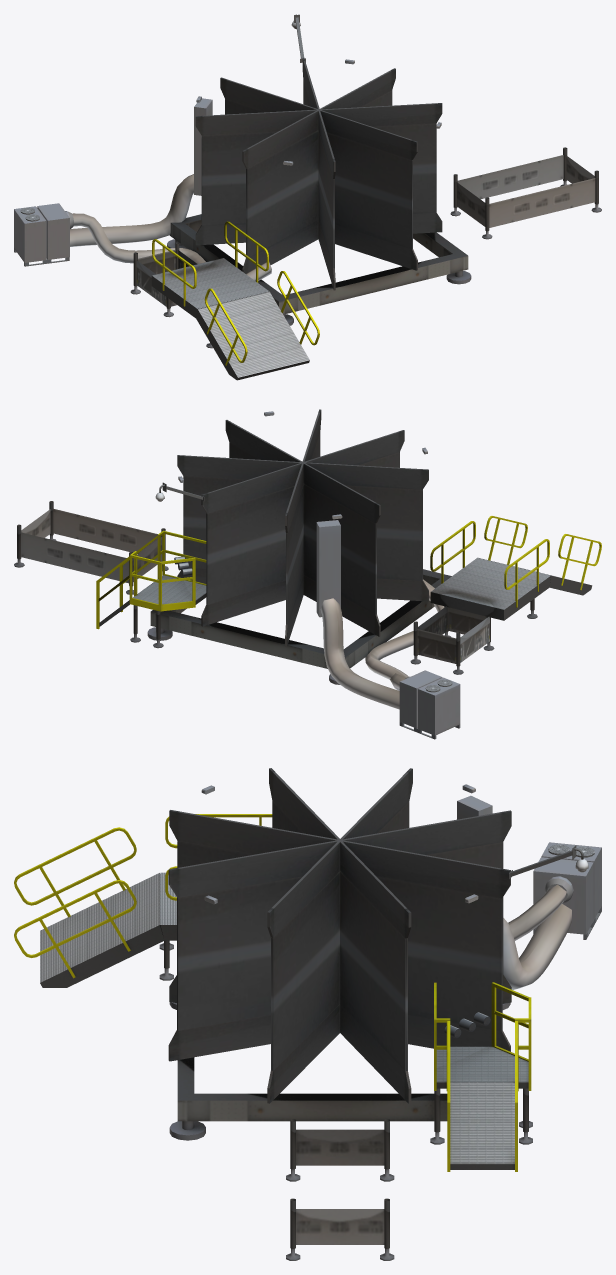
Rendered from habitat-interior.glb.
3 views of the same model, one above another, from view 1: azimuth 30°, elevation 25°; view 2: azimuth 150°, elevation 25°; view 3: azimuth 270°, elevation 25° (orthographic). The views are drawn at different scales.
Parts seen in each view (by area): view 1: HDU_lowRez_part2; view 2: HDU_lowRez_part2; view 3: HDU_lowRez_part2.
Boxes of the visible parts, x1,y1,x2,y2 form: HDU_lowRez_part2: [14, 14, 601, 380]; HDU_lowRez_part2: [14, 409, 601, 739]; HDU_lowRez_part2: [14, 768, 601, 1260].
Size of the model in its own units: 656 by 226 by 459.
1 material, 1 textured.
